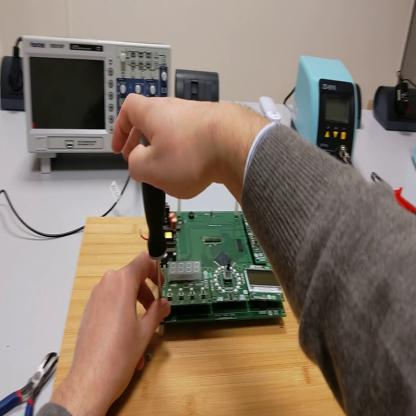hand: (72, 251, 170, 400), (111, 94, 224, 199)
low voltage board: (143, 203, 290, 327)
oscilloscope: (25, 35, 172, 176)
pliers: (3, 348, 59, 416), (374, 171, 416, 216)
screwdriver-: (143, 178, 171, 325)
socket: (375, 88, 414, 133), (2, 56, 26, 112), (357, 85, 364, 130)
welder station: (292, 57, 357, 164)
working area: (58, 215, 346, 416)
